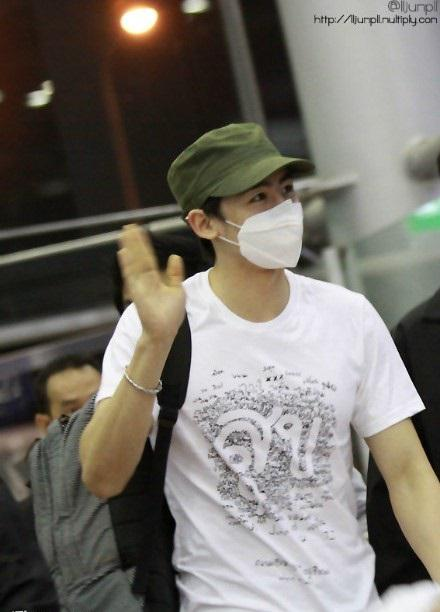OK: (221, 174, 317, 270)
